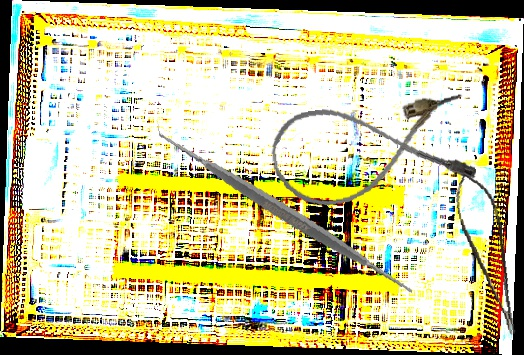Cannula: (266, 89, 478, 213)
Micro Scissor: (449, 168, 522, 341)
Spatula Surgical: (156, 83, 415, 341)
